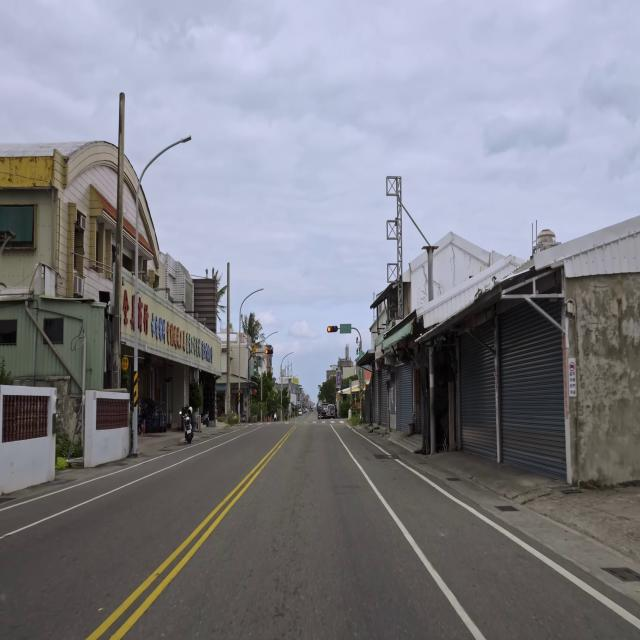red light: (327, 325, 338, 333), (265, 348, 273, 355)
